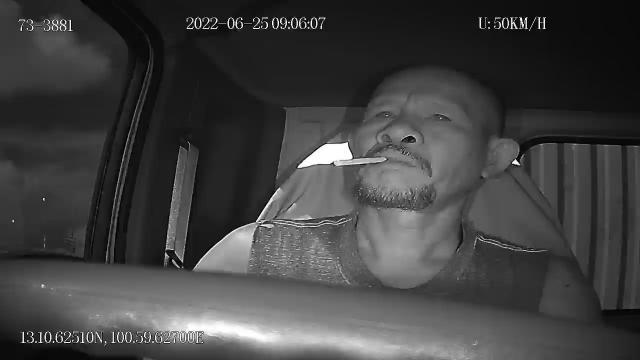SafeDriving: (416, 99, 461, 131), (365, 102, 401, 127)
Smoking: (334, 155, 386, 167)
